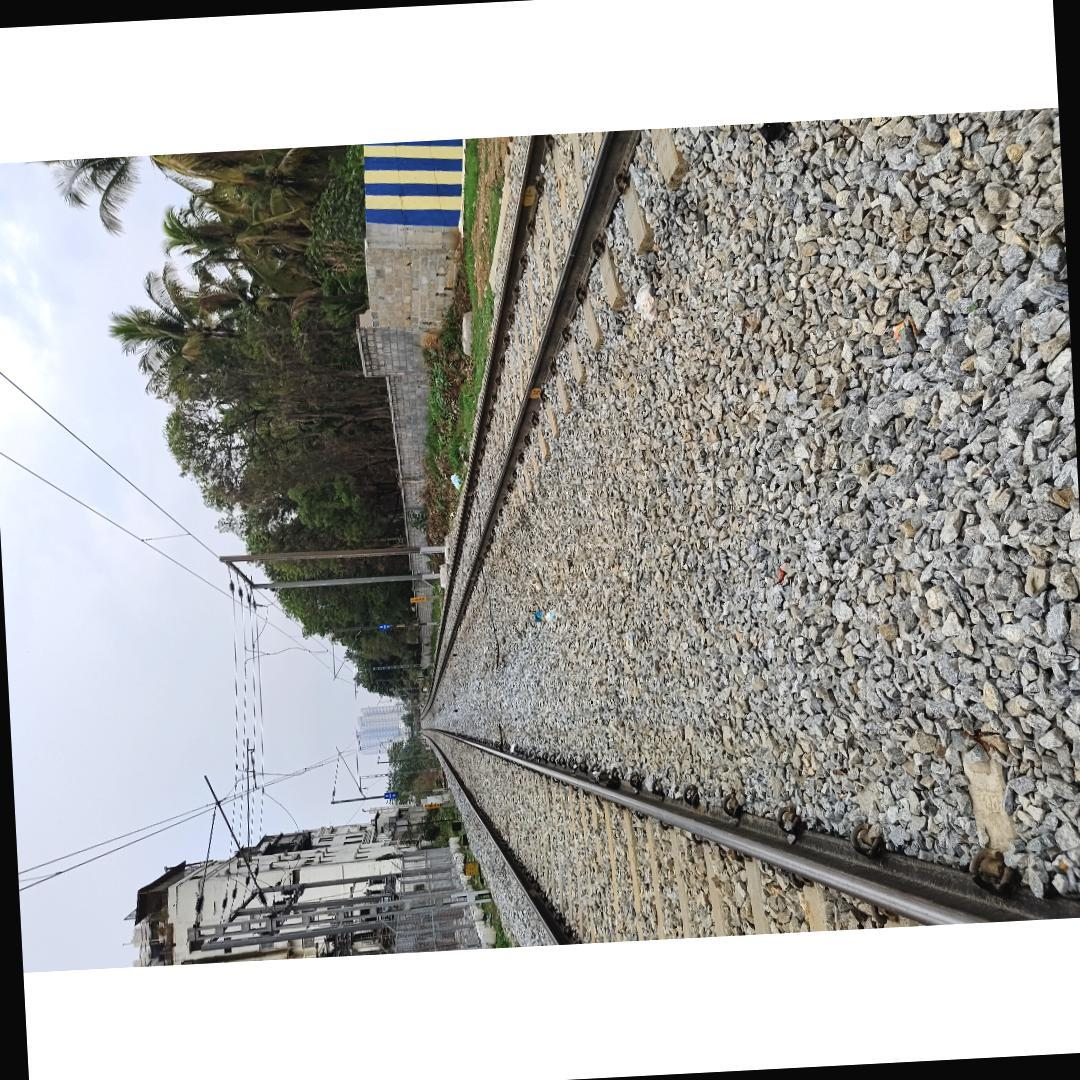track: (421, 127, 675, 721), (416, 719, 1080, 946)
